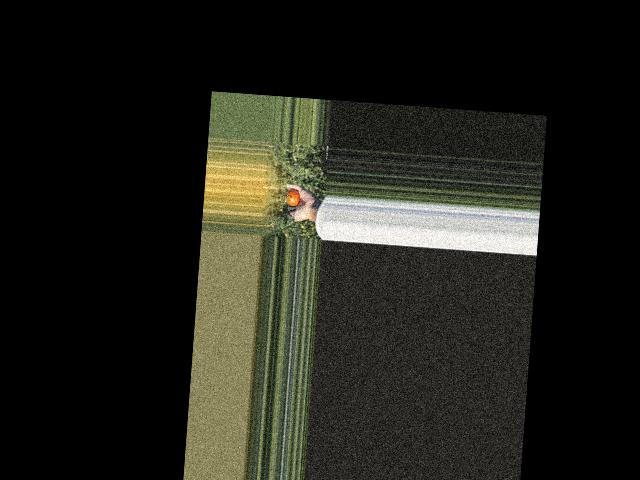tomato: (284, 188, 300, 205)
